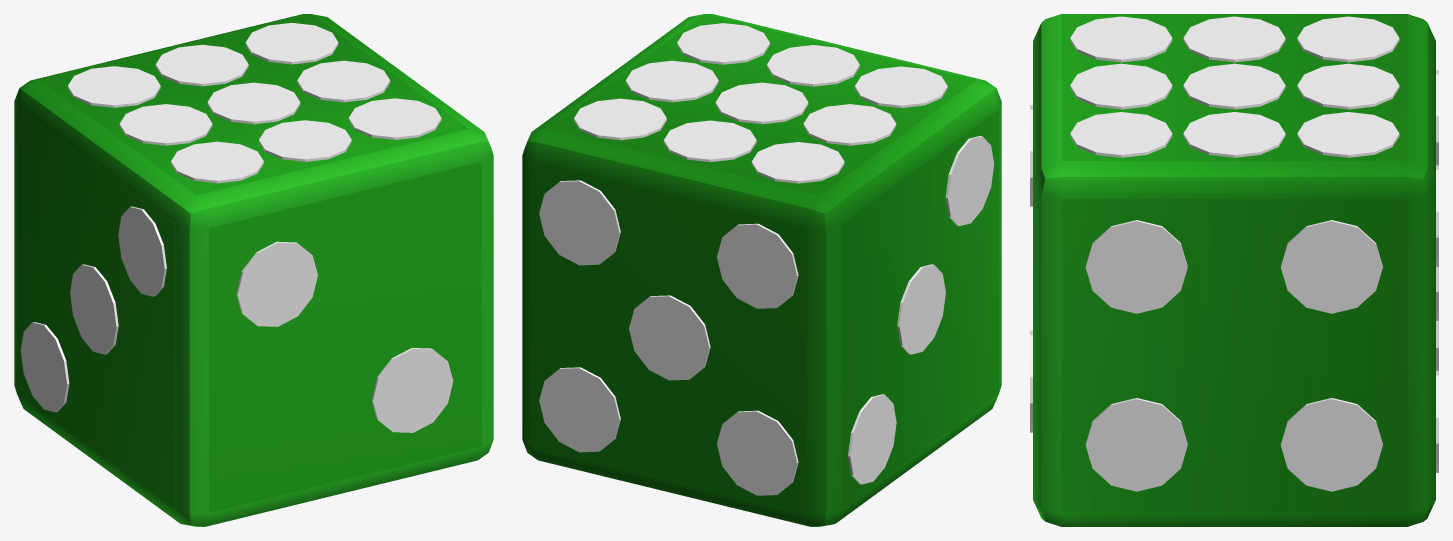
The model's file is Dice_05.fbx.
3 views of the same model, side by side, from view 1: azimuth 30°, elevation 25°; view 2: azimuth 150°, elevation 25°; view 3: azimuth 270°, elevation 25° (orthographic). The views are drawn at different scales.
Parts seen in each view (by area): view 1: pCube14; view 2: pCube14; view 3: pCube14.
Part boxes in pixels (x1,y1,x2,y2): pCube14: (14, 14, 493, 526); pCube14: (522, 14, 1001, 526); pCube14: (1030, 14, 1438, 526).
Bounding box in the file's own units: 2.03 × 2.03 × 2.03.
